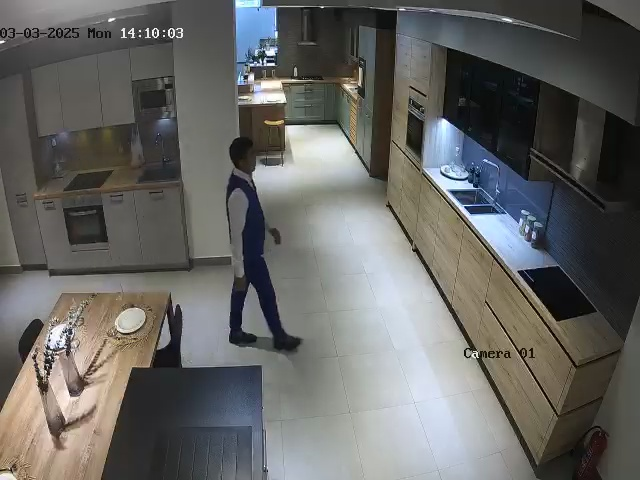employee: (225, 136, 302, 352)
